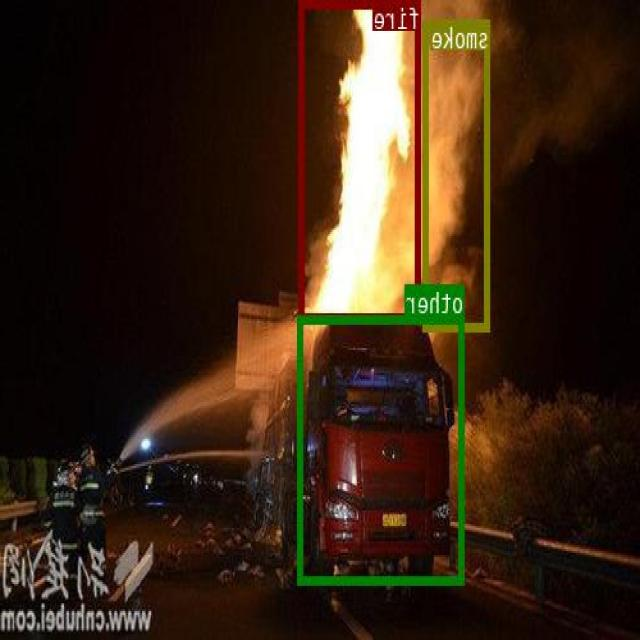fire: (300, 0, 421, 321)
other: (300, 315, 466, 582)
smoke: (425, 17, 491, 330)
